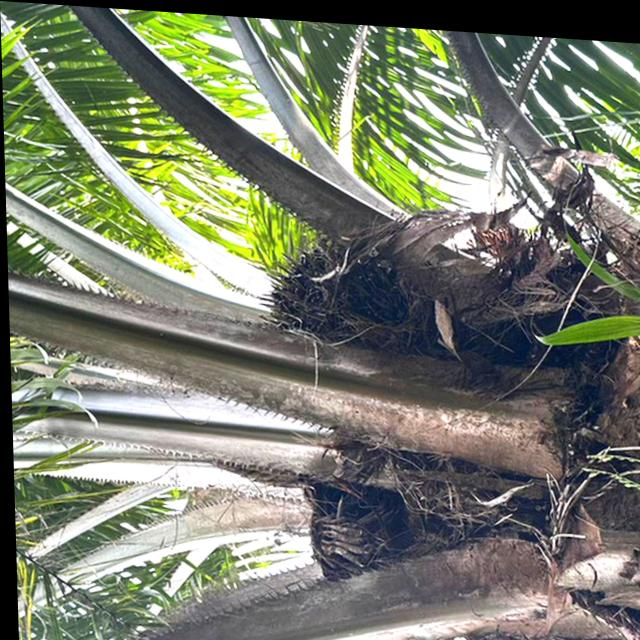ripe: (258, 237, 424, 365)
